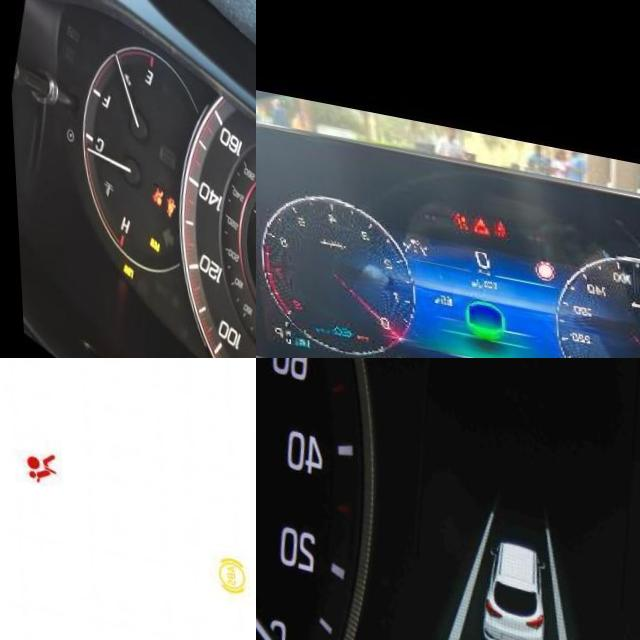Seat Belt: (492, 208, 506, 225)
